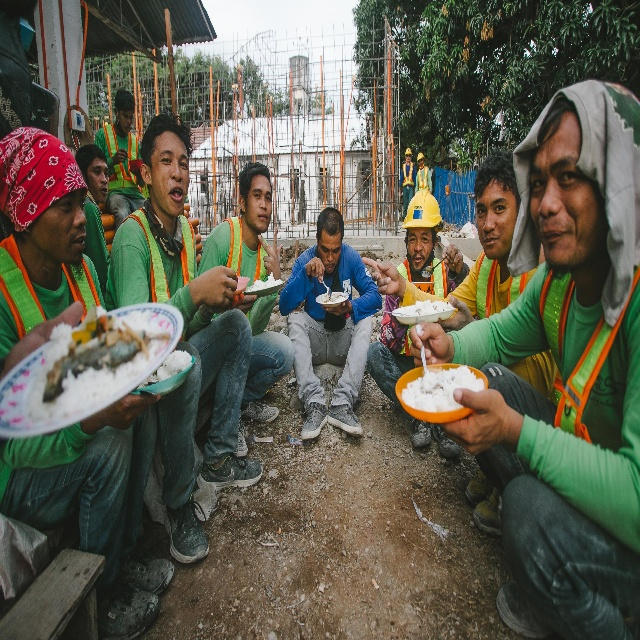Sin_guantes: (442, 383, 503, 458), (410, 320, 455, 371), (115, 393, 165, 431), (361, 256, 402, 299), (196, 268, 238, 306), (256, 228, 284, 280), (441, 296, 472, 327), (441, 241, 461, 274), (325, 294, 350, 319), (307, 257, 325, 282), (113, 145, 129, 170)
